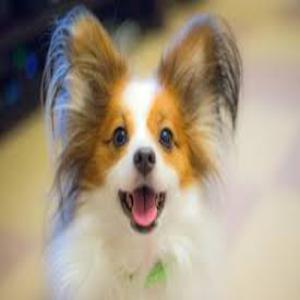yell: (42, 3, 240, 300)
